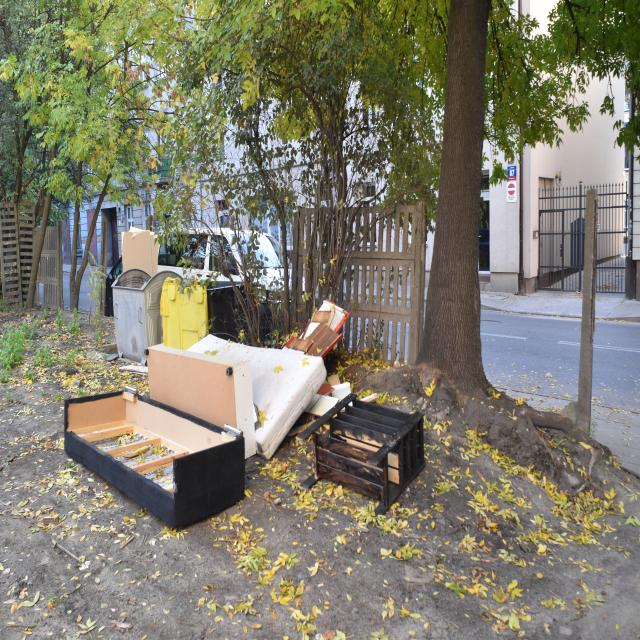entulho: (59, 390, 254, 532), (145, 331, 329, 458), (296, 387, 432, 520), (282, 294, 352, 368), (119, 222, 162, 286), (318, 370, 356, 410)
